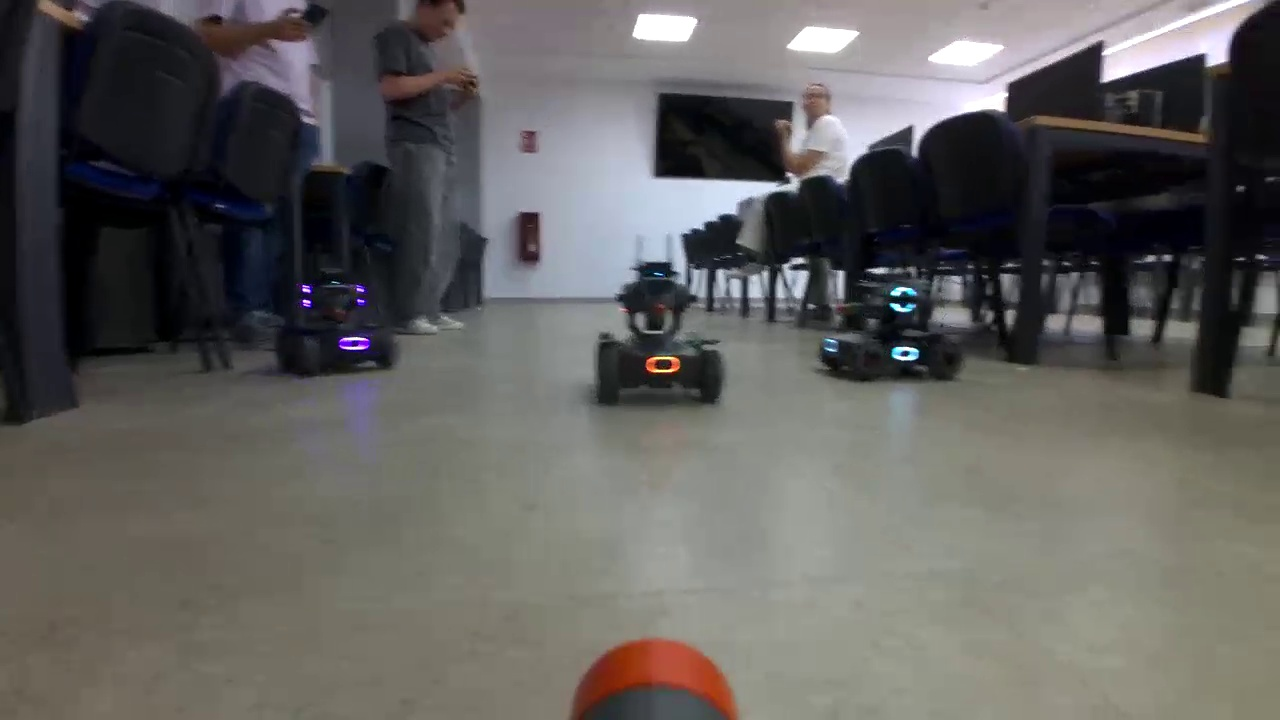robot: (595, 255, 722, 405), (818, 268, 965, 380), (275, 278, 395, 372)
